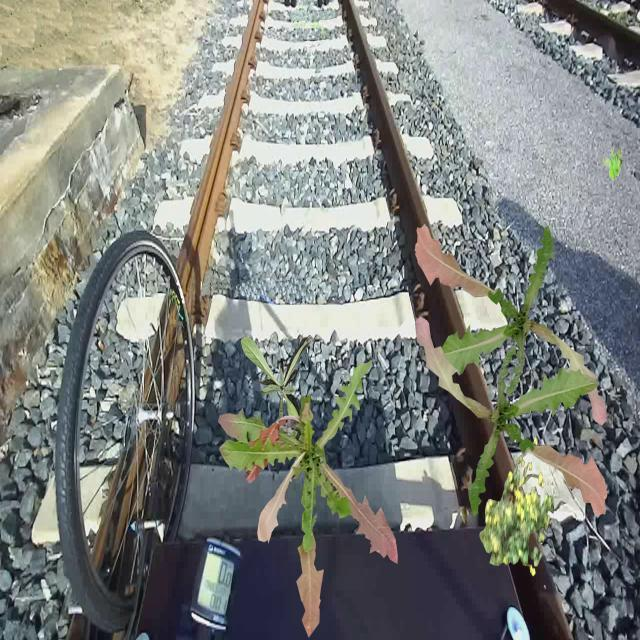Plant: (218, 361, 398, 639), (415, 223, 608, 426), (415, 316, 608, 518), (479, 437, 554, 577), (241, 335, 312, 443), (602, 148, 622, 181)
